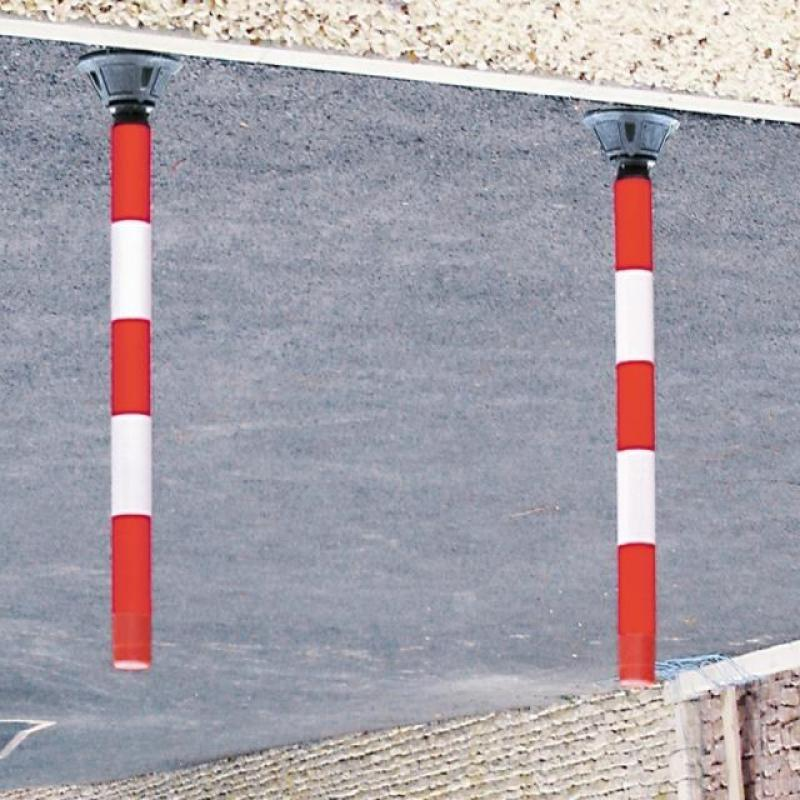pillar: (84, 96, 162, 682), (602, 154, 662, 696)
